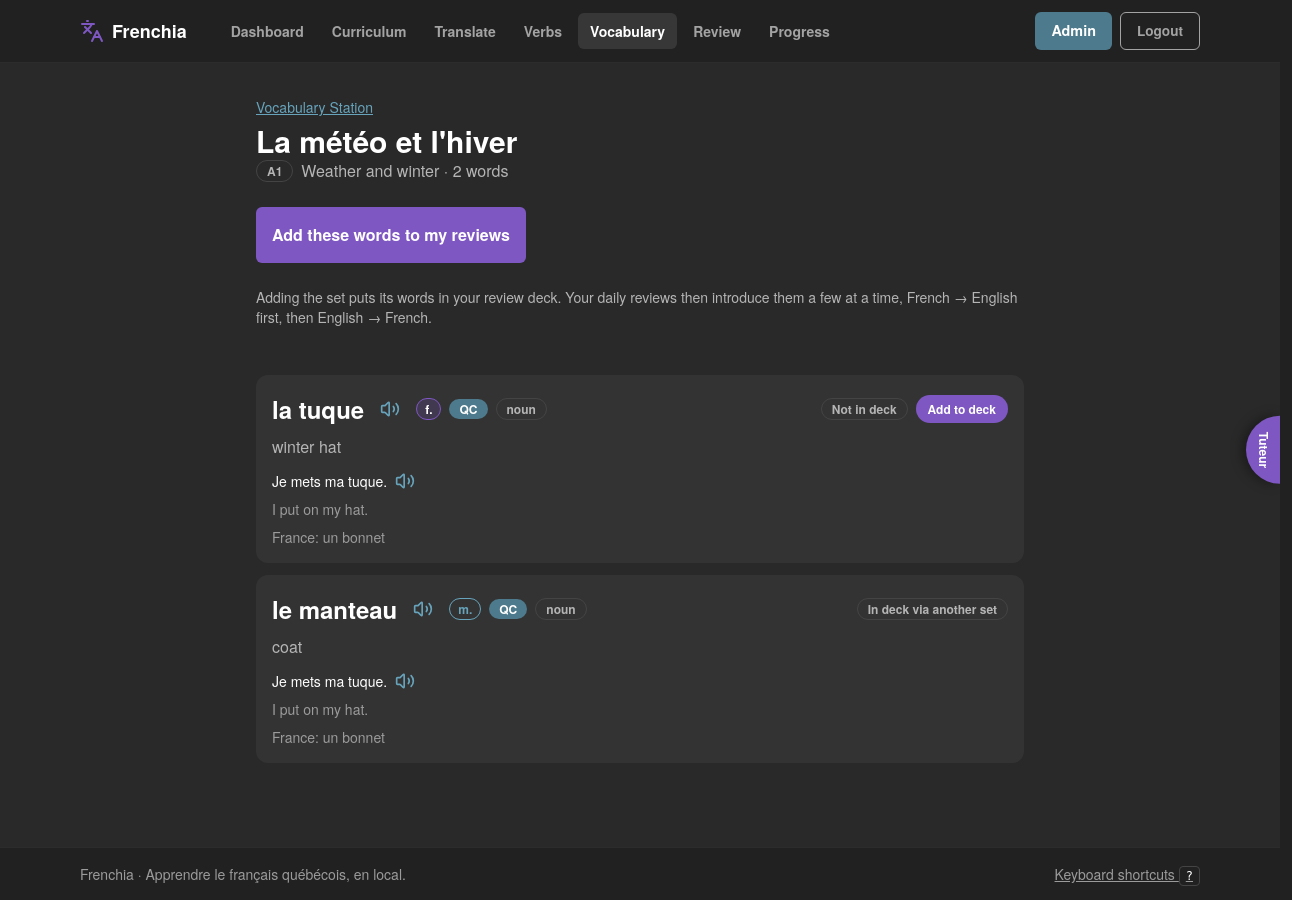
Scenario: Vocabulary Station › adds and removes a single word from the set page
Check: the text "In deck via another set" is shown, box x1=857 y1=598 x2=1008 y2=620
Click the button with aria-label "Add to deck: la tuque": {"x": 962, "y": 409} x1=916 y1=395 x2=1008 y2=423
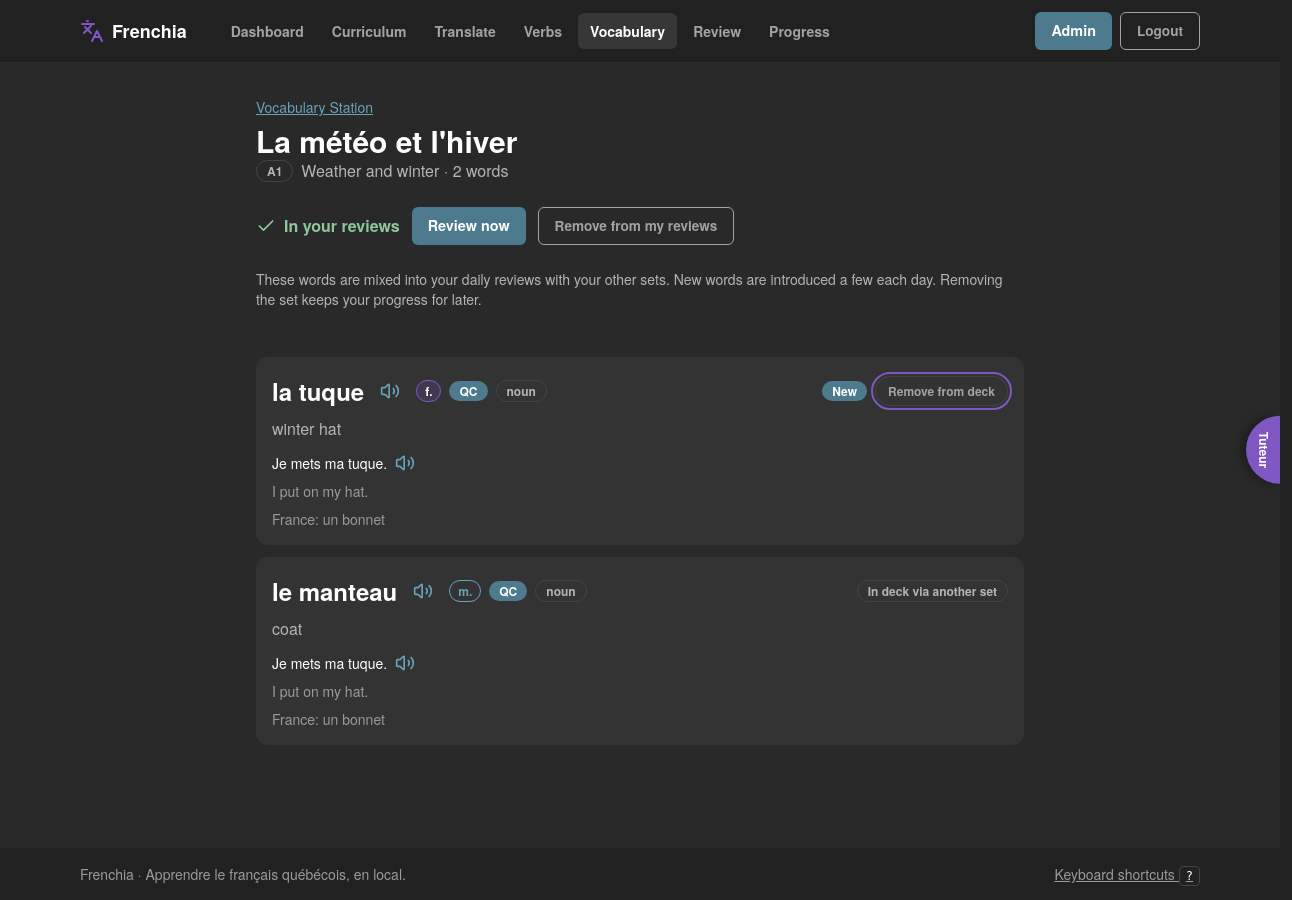
Click the button with aria-label "Remove from deck: la tuque": {"x": 942, "y": 391} x1=875 y1=376 x2=1008 y2=406
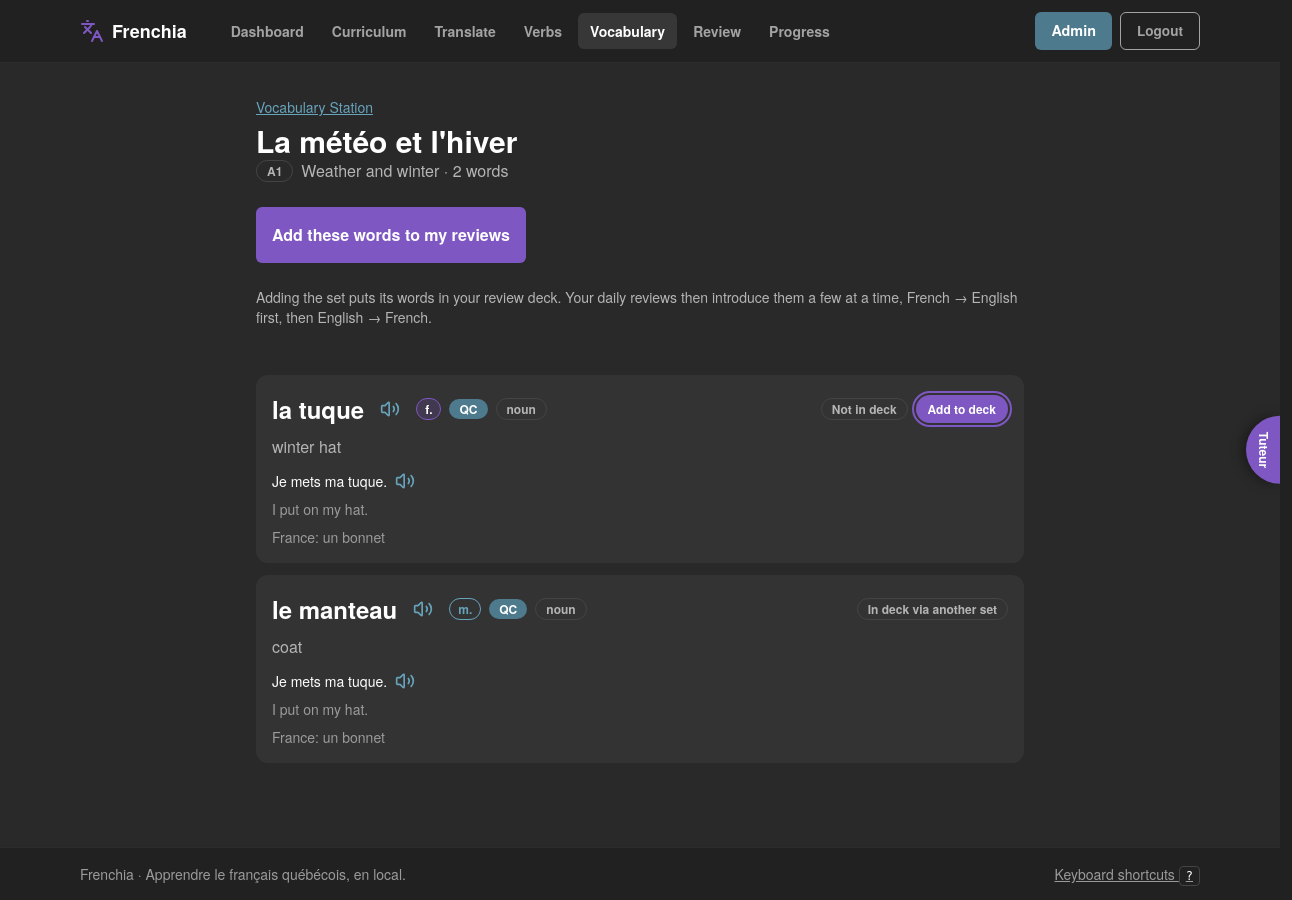
Check: the button with aria-label "Add to deck: la tuque" is shown, box x1=916 y1=395 x2=1008 y2=423
